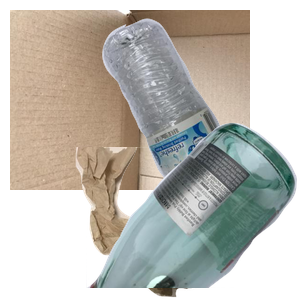cardboard: (10, 10, 250, 190)
glass: (86, 120, 300, 300)
plastic: (100, 16, 300, 196)
trash: (73, 147, 300, 300)
